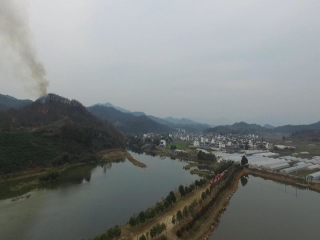smoke: (1, 8, 50, 107)
